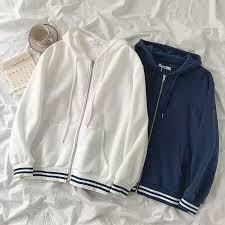sweater: (16, 40, 142, 193), (137, 42, 218, 207)
